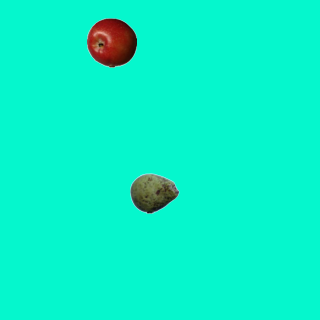Apple Braeburn: (86, 17, 136, 67)
Pear Stone: (129, 168, 179, 218)
